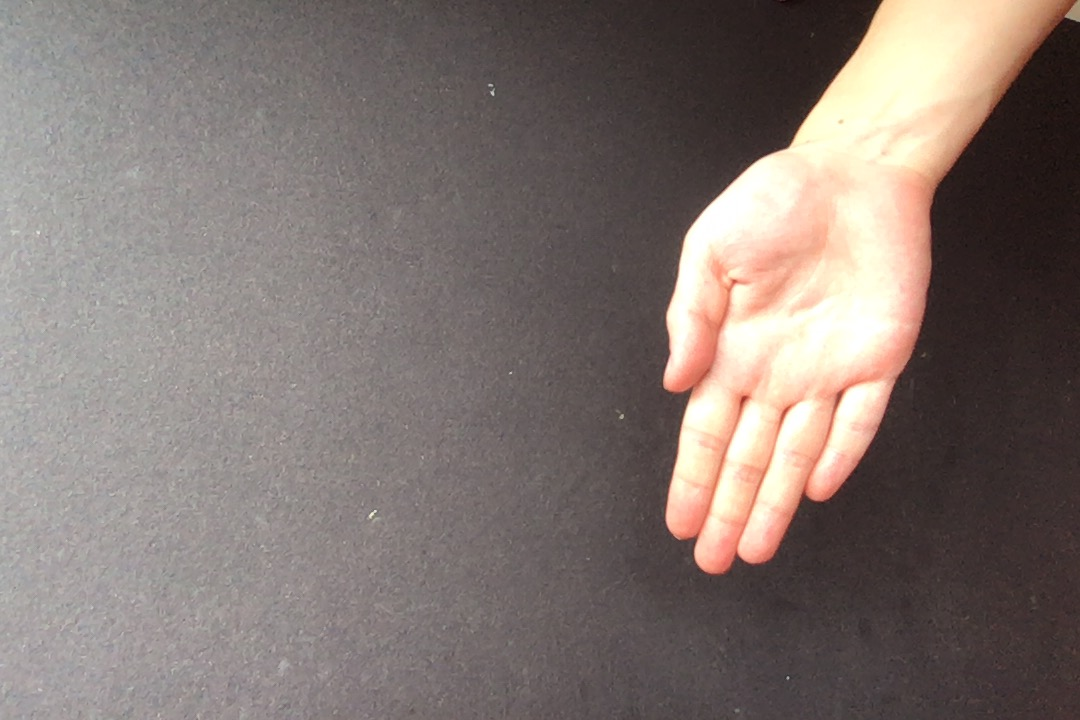palmhand: (655, 133, 936, 580)
